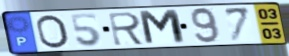5: (69, 12, 104, 49)
7: (224, 5, 252, 44)
9: (190, 6, 222, 45)
M: (136, 8, 189, 47)
O: (35, 13, 72, 50)
R: (107, 11, 148, 47)
